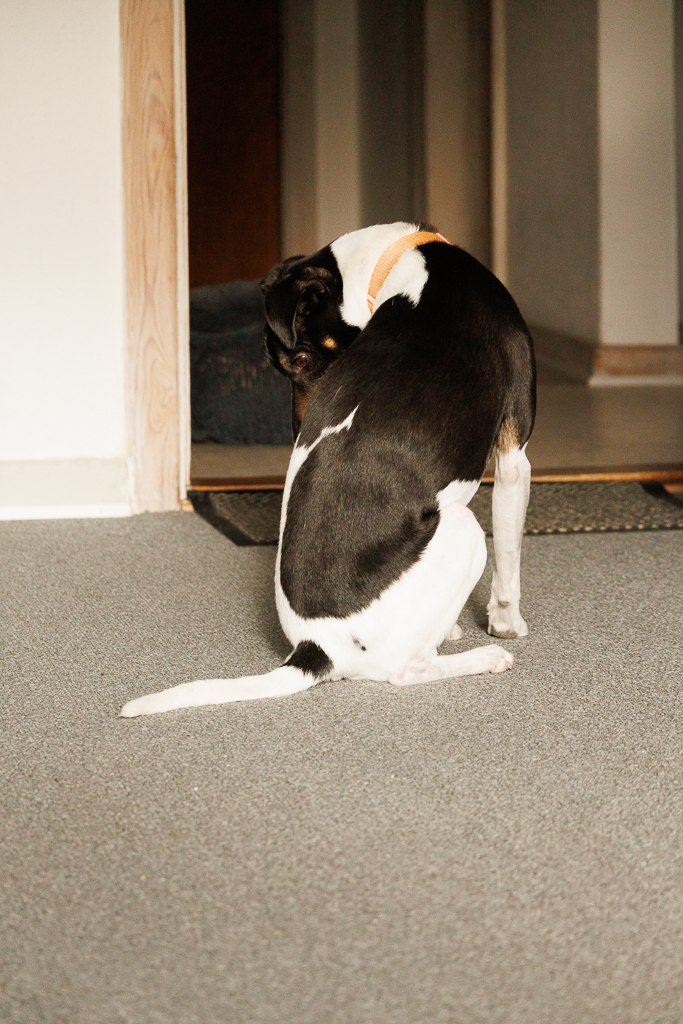Dog: (110, 214, 544, 725)
